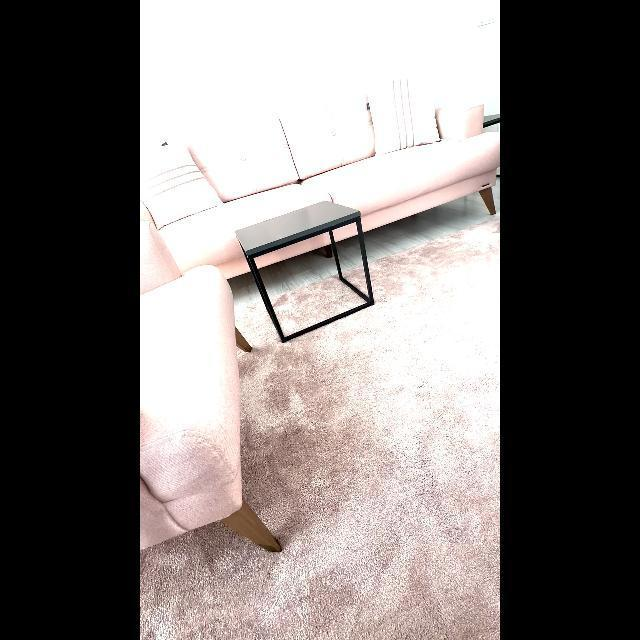coffee table: (232, 194, 380, 348)
